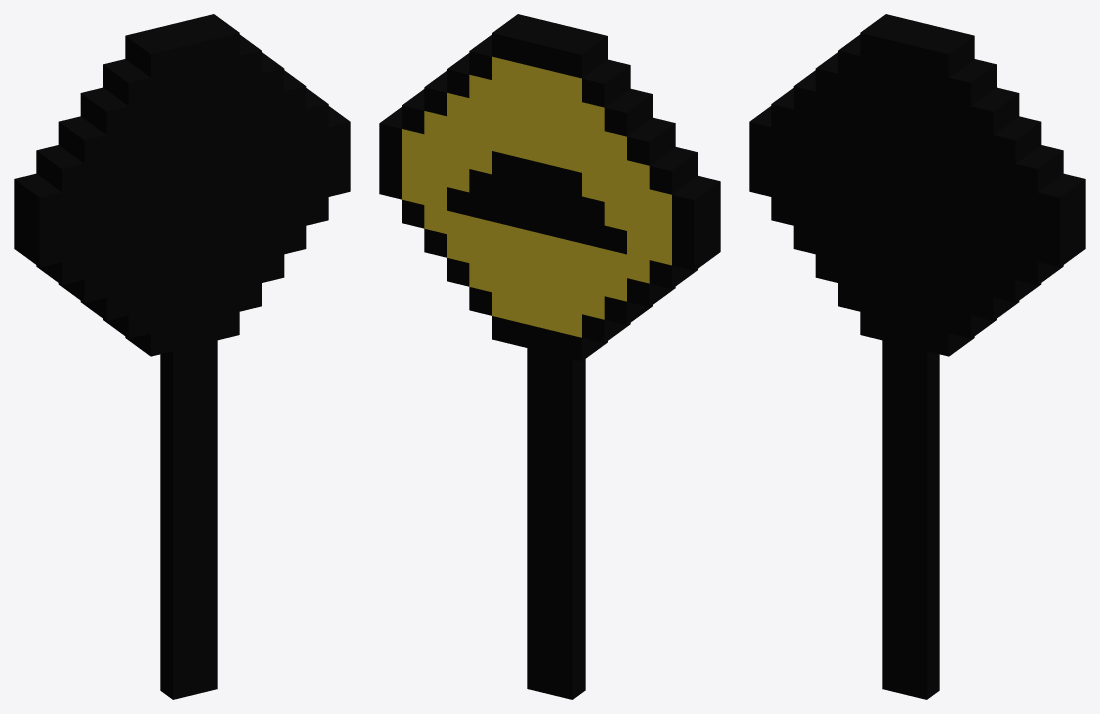
Rendered from placaquebramola.obj.
The picture shows the model from 3 angles, left to right: view 1: azimuth 30°, elevation 25°; view 2: azimuth 150°, elevation 25°; view 3: azimuth 330°, elevation 25°; orthographic projection.
Bounding box in the file's own units: 1.4 × 2.8 × 0.2.
Materials: 1 (1 with a texture image).
